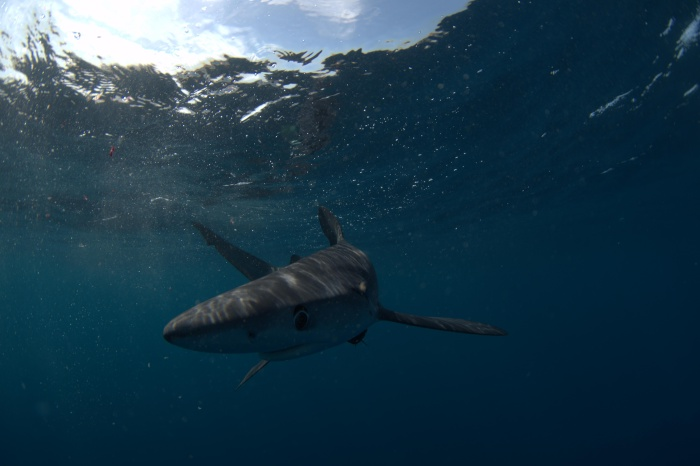Azul: (112, 183, 509, 354)
